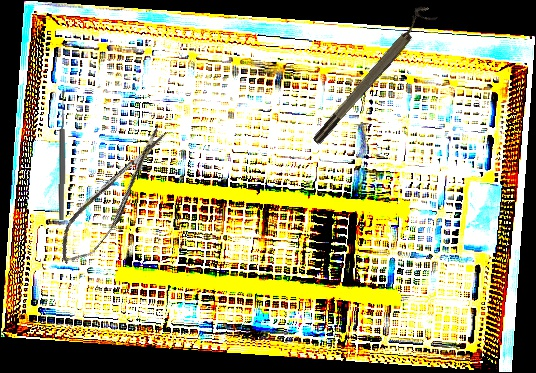Fixation Ring: (304, 1, 439, 148)
Micro Scissor: (47, 120, 181, 273)
Surgical Spoon: (57, 90, 68, 221)
